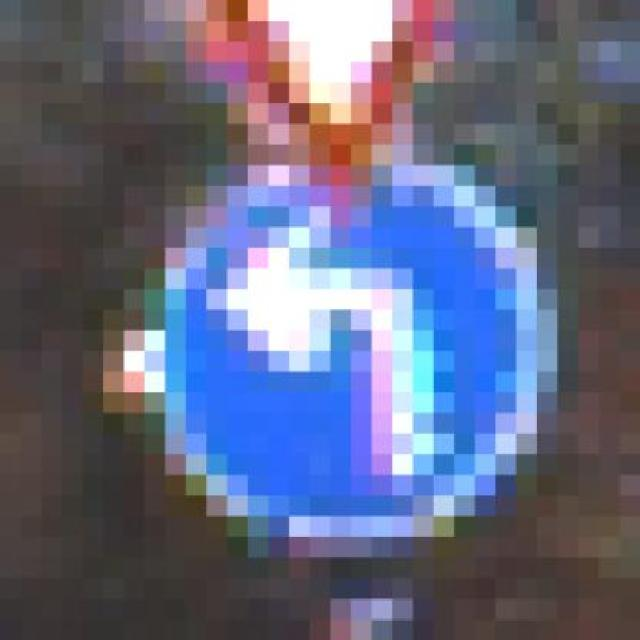Turn left ahead: (144, 103, 558, 537)
